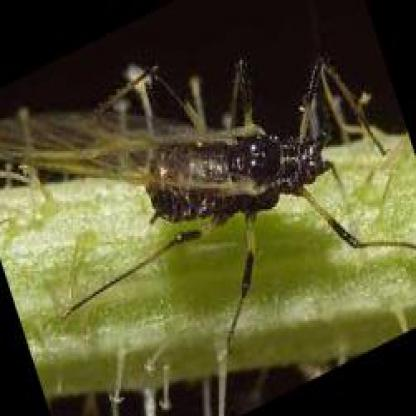uroleucon compositae: (10, 55, 362, 298)
